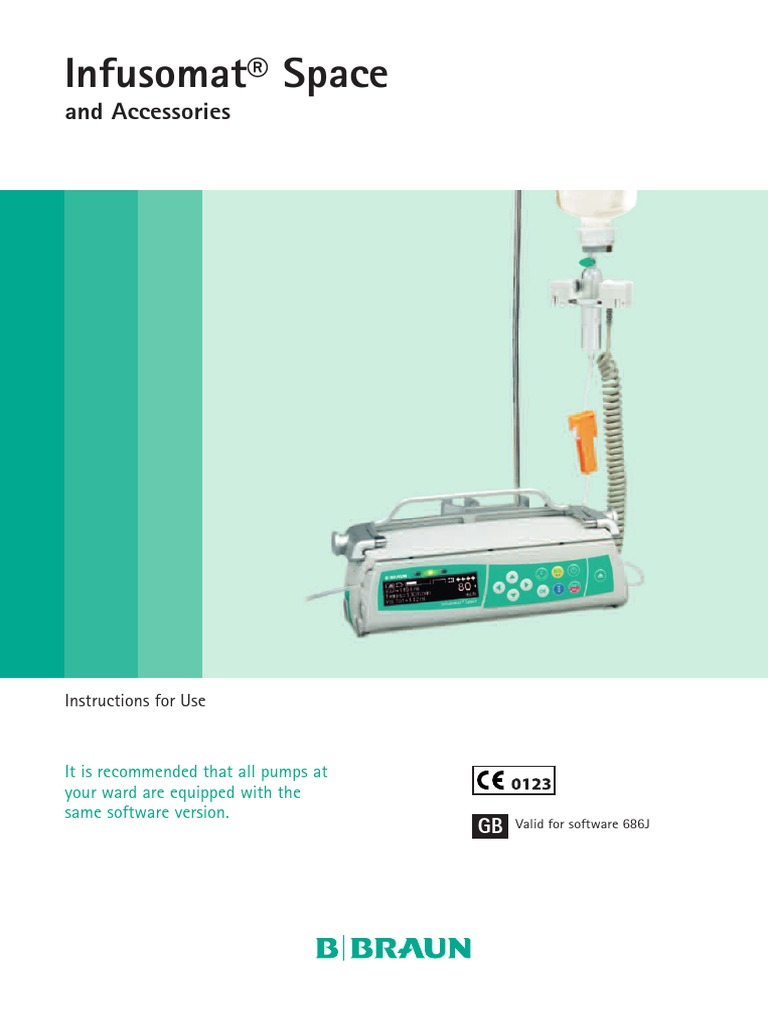BBraun Infusomat Space: (330, 487, 646, 641)
